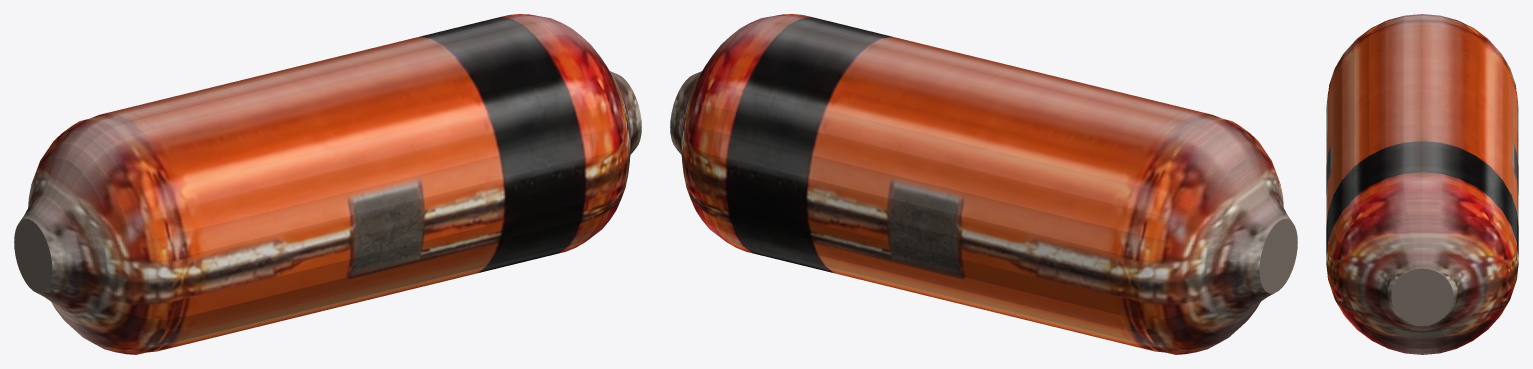
File: diode.glb
3 views of the same model, side by side, from view 1: azimuth 30°, elevation 25°; view 2: azimuth 150°, elevation 25°; view 3: azimuth 270°, elevation 25° (orthographic). The views are drawn at different scales.
Visible parts, largest first — view 1: diode; view 2: diode; view 3: diode.
Boxes of the visible parts, <box> form: diode: <box>14,14,641,354</box>; diode: <box>670,14,1297,354</box>; diode: <box>1326,14,1518,354</box>.
Size of the model in its own units: 3.89 by 1.4 by 1.4.
1 material, 1 textured.
